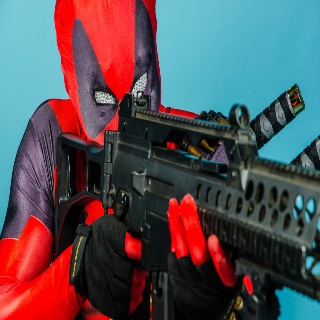rifle: (51, 90, 320, 310)
